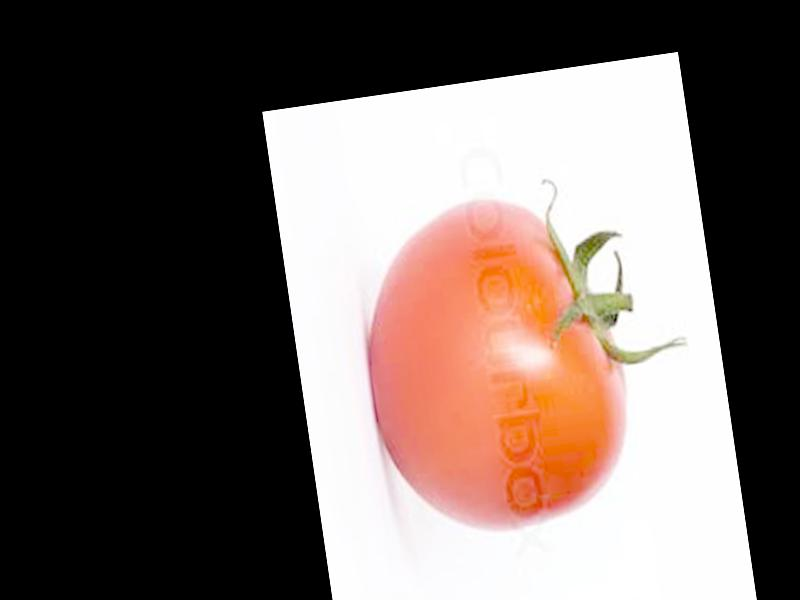Tomato: (351, 186, 644, 545)
